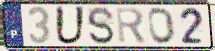2: (179, 6, 207, 47)
3: (27, 5, 53, 45)
O: (147, 6, 177, 45)
R: (115, 6, 148, 45)
S: (86, 5, 116, 46)
U: (53, 5, 87, 46)
